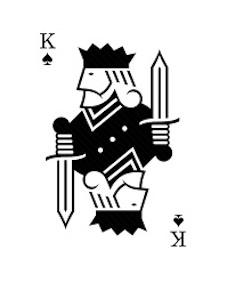KingOfSpades: (25, 20, 195, 260)
